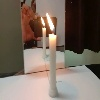fire: (48, 13, 54, 33)
